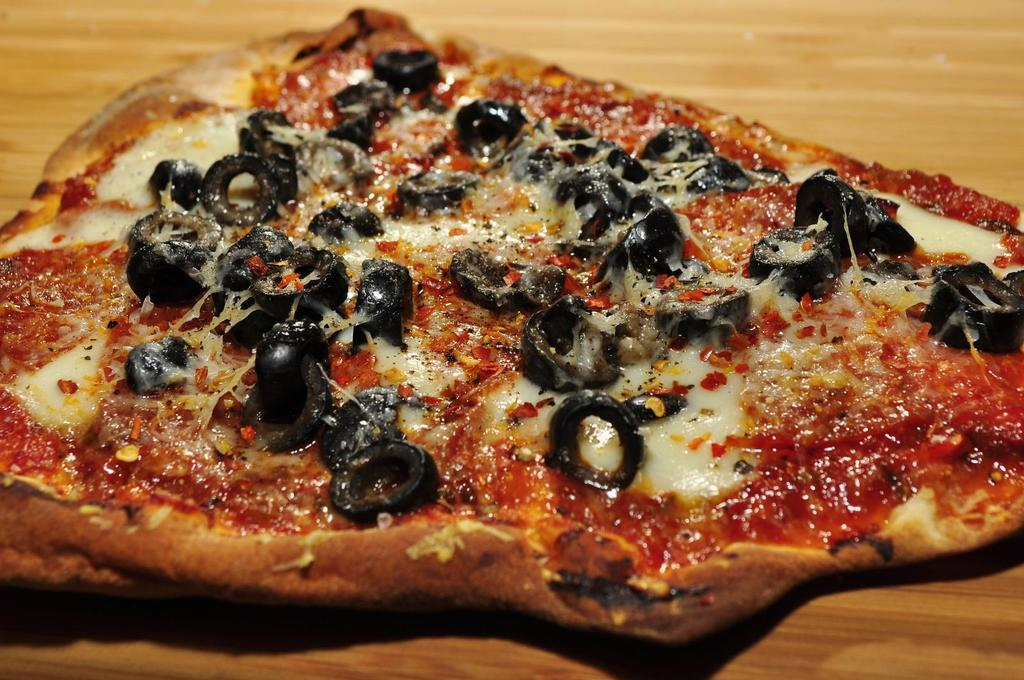Pizza: (3, 14, 1022, 649)
